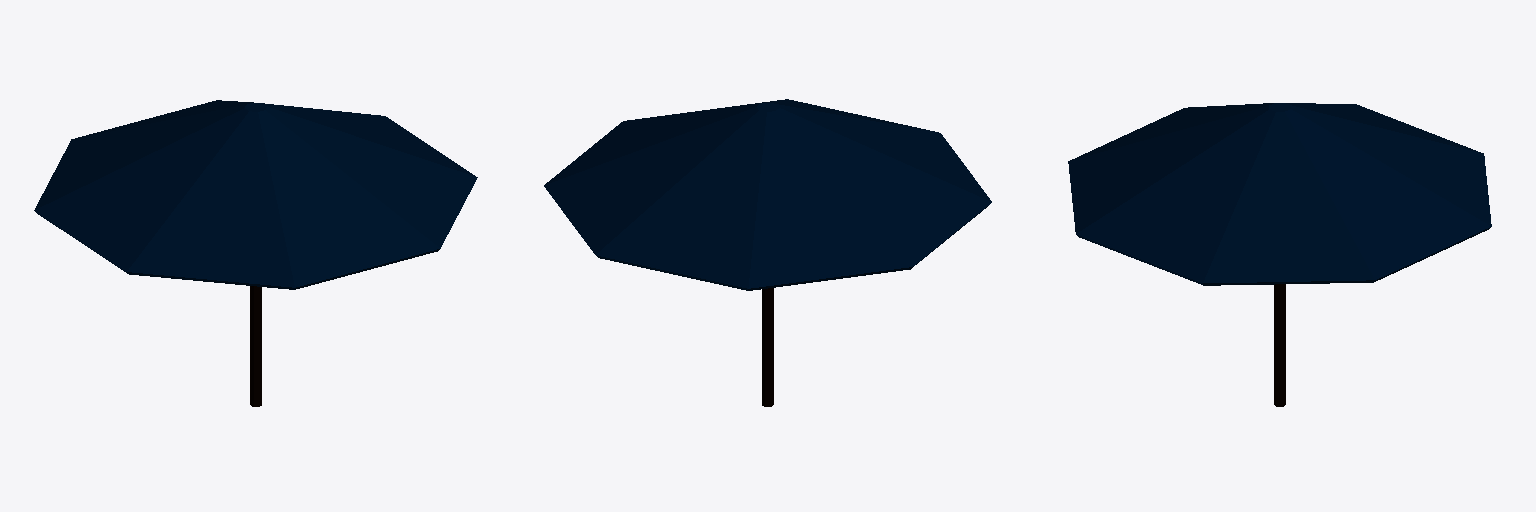
File: Parasol1.obj
The picture shows the model from 3 angles: view 1: azimuth 30°, elevation 25°; view 2: azimuth 150°, elevation 25°; view 3: azimuth 270°, elevation 25°; orthographic projection.
Visible parts, largest first — view 1: Parasol1_Cylinder.003; view 2: Parasol1_Cylinder.003; view 3: Parasol1_Cylinder.003.
Part boxes in pixels (bbox=[...]): Parasol1_Cylinder.003: bbox=[34, 100, 477, 406]; Parasol1_Cylinder.003: bbox=[544, 99, 991, 406]; Parasol1_Cylinder.003: bbox=[1068, 103, 1491, 406].
Size of the model in its own units: 4.87 by 3.78 by 4.87.